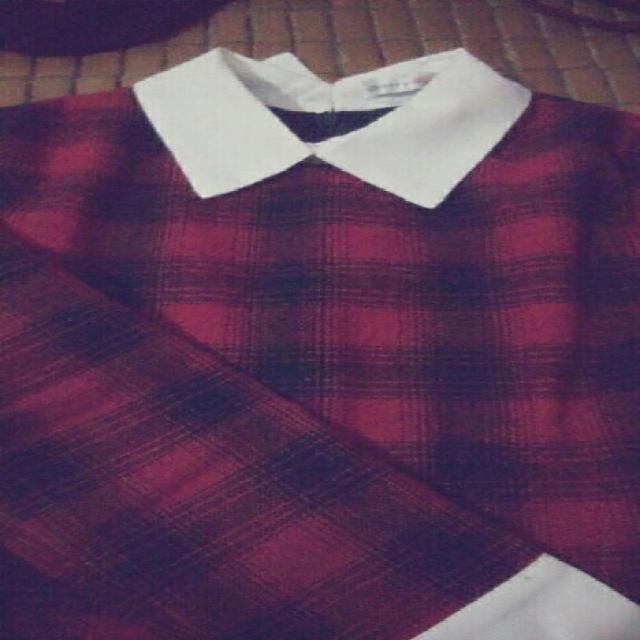long-sleeve-top: (7, 86, 640, 640)
